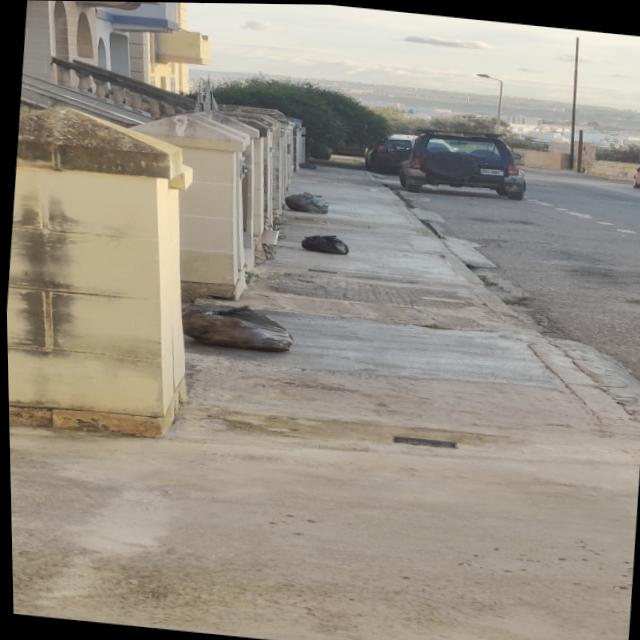Mixed Waste -Black Bags-: (181, 304, 293, 353), (295, 233, 349, 254), (282, 192, 331, 214)
